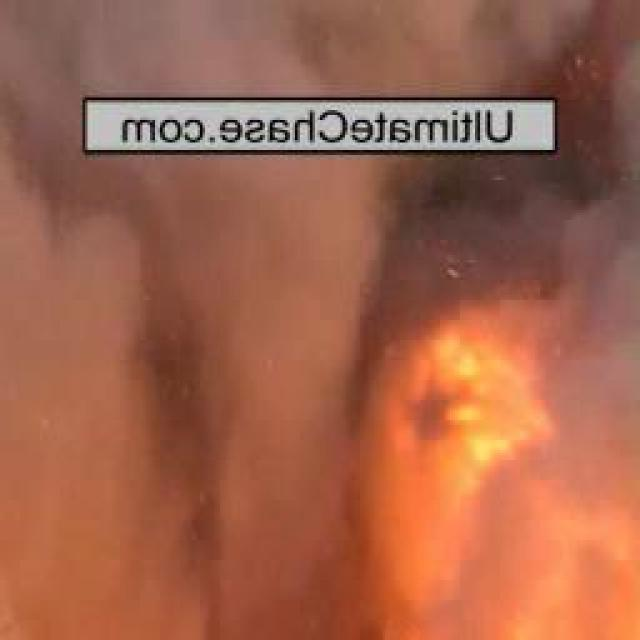Fire: (351, 214, 562, 582)
